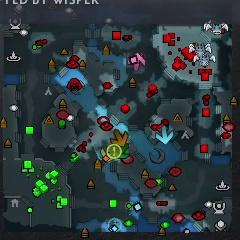Other: (107, 144, 122, 158)
x1: (128, 52, 145, 72)
x2: (100, 147, 114, 162)
x3: (154, 126, 175, 144)
x4: (116, 143, 130, 160)
x5: (111, 129, 129, 147)
